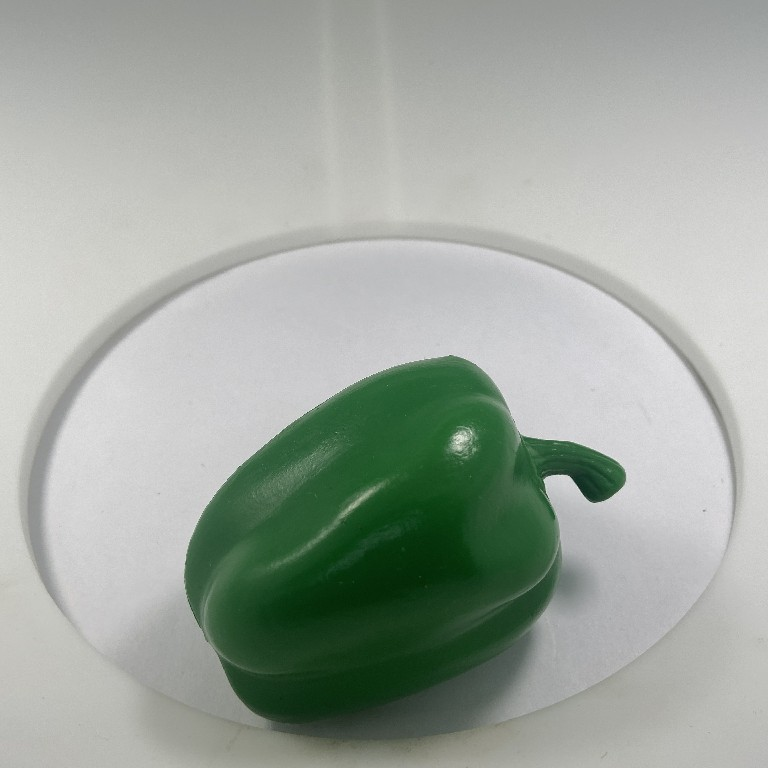fruit_pepper: (175, 348, 631, 726)
